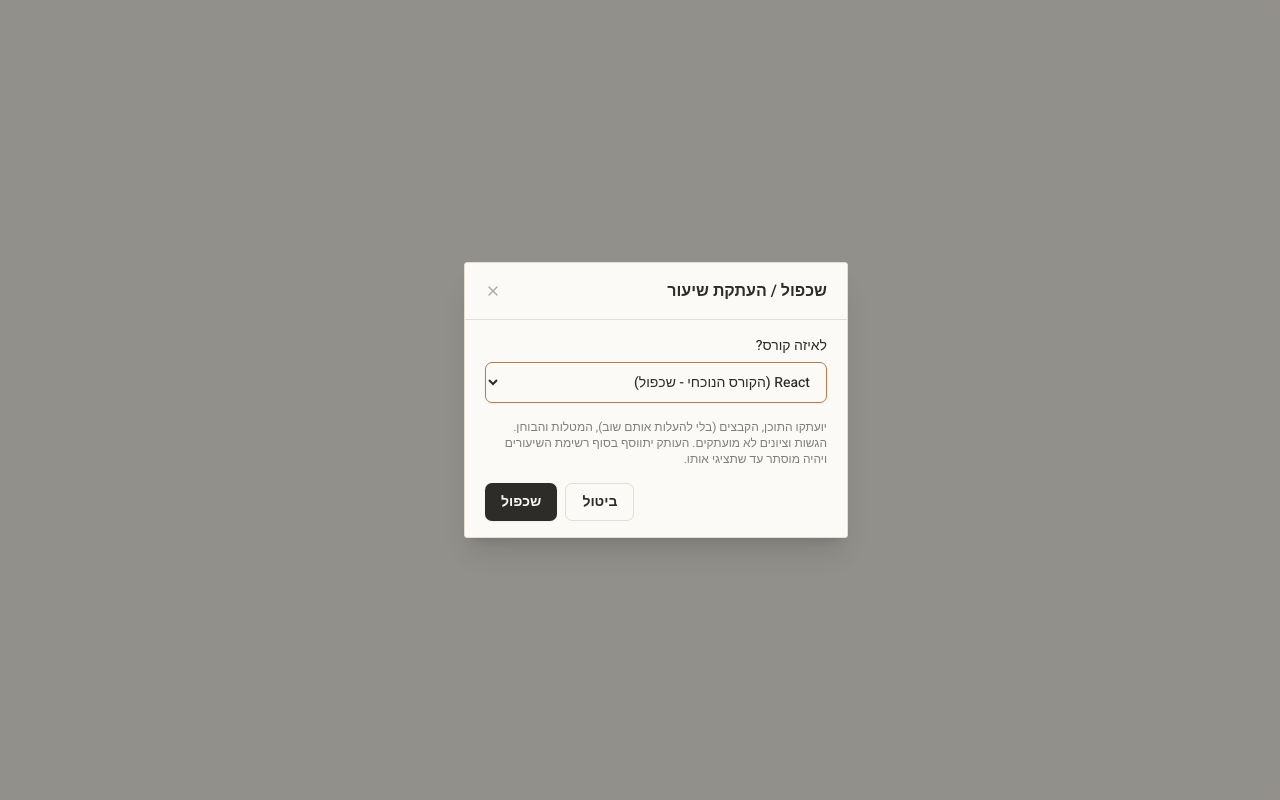
Scenario: LessonCopyModal › keeps the plain message when every deadline is still ahead
What coordinates should you click on to do the following:
click the button "שכפול"
I would click on:
 (521, 502)
Its box is [485, 483, 557, 521].
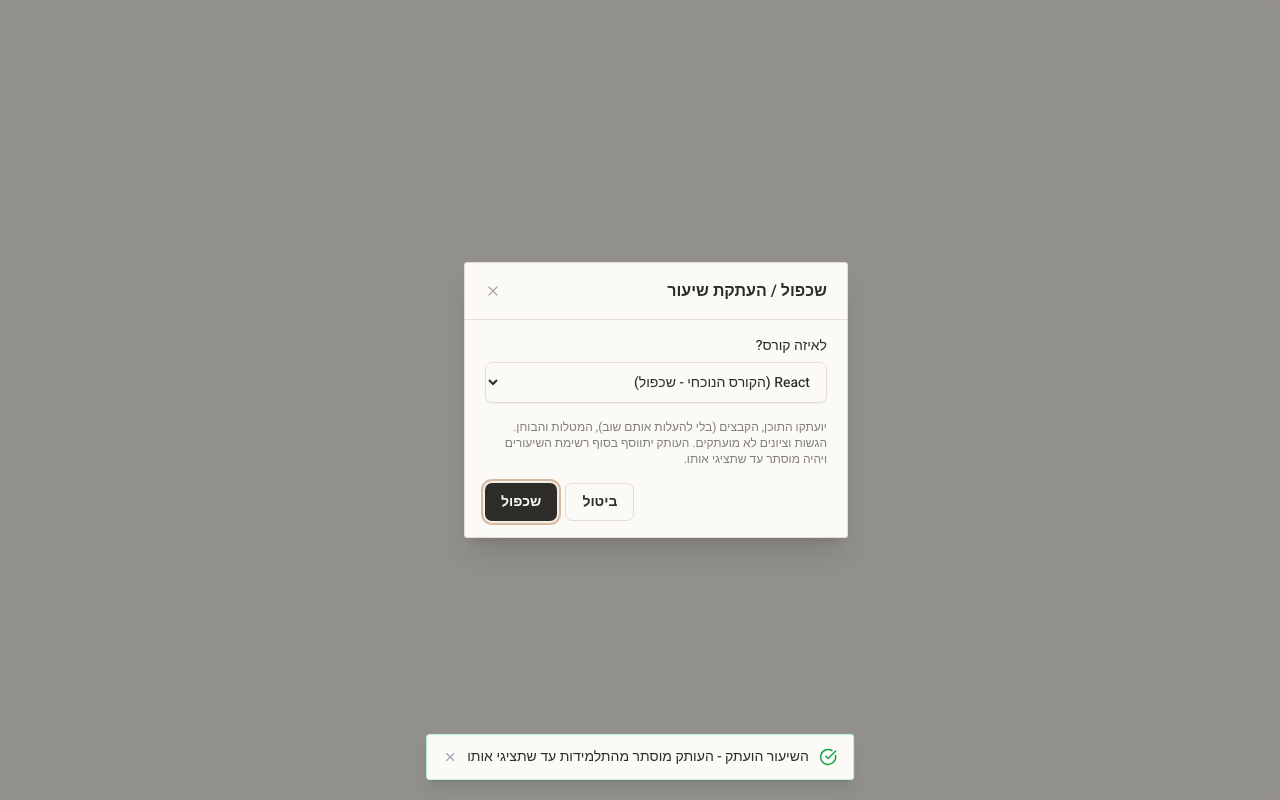
Expected: the text "השיעור הועתק - העותק מוסתר מהתלמידות עד שתציגי אותו" is shown, [467, 747, 809, 767]
